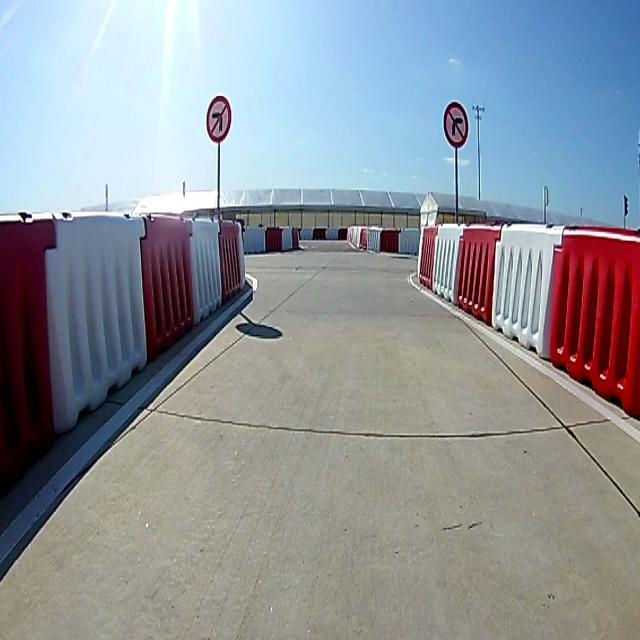sagadonulmez: (444, 102, 468, 148)
soladonulmez: (206, 96, 232, 144)
